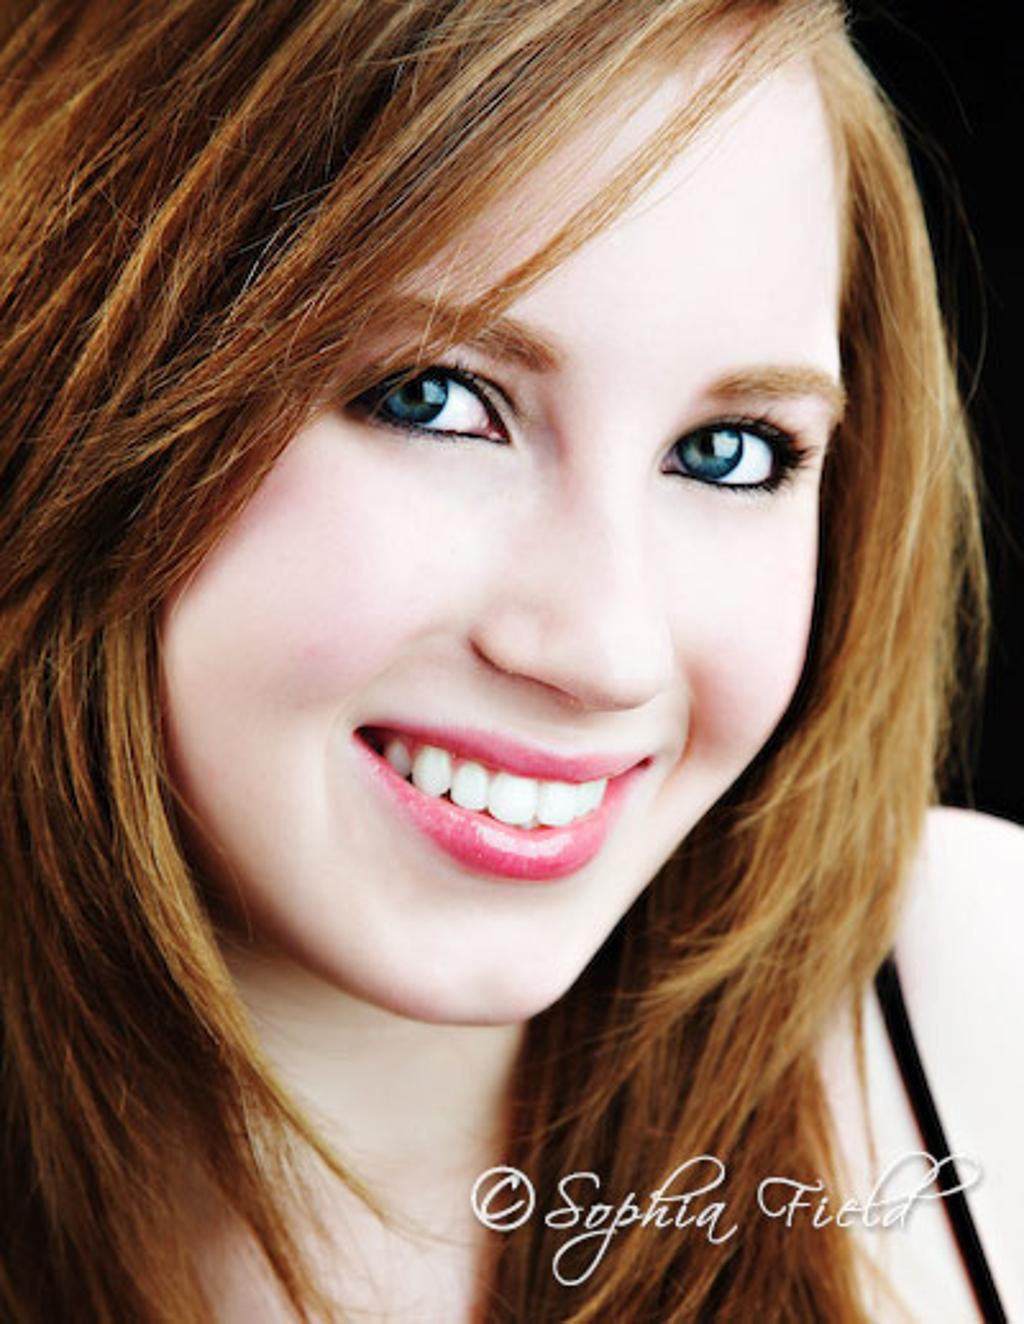face: (164, 86, 829, 1025)
